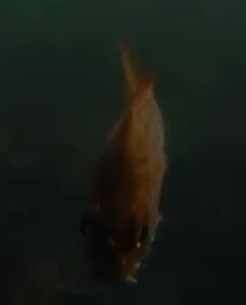mebaru: (80, 52, 171, 284)
